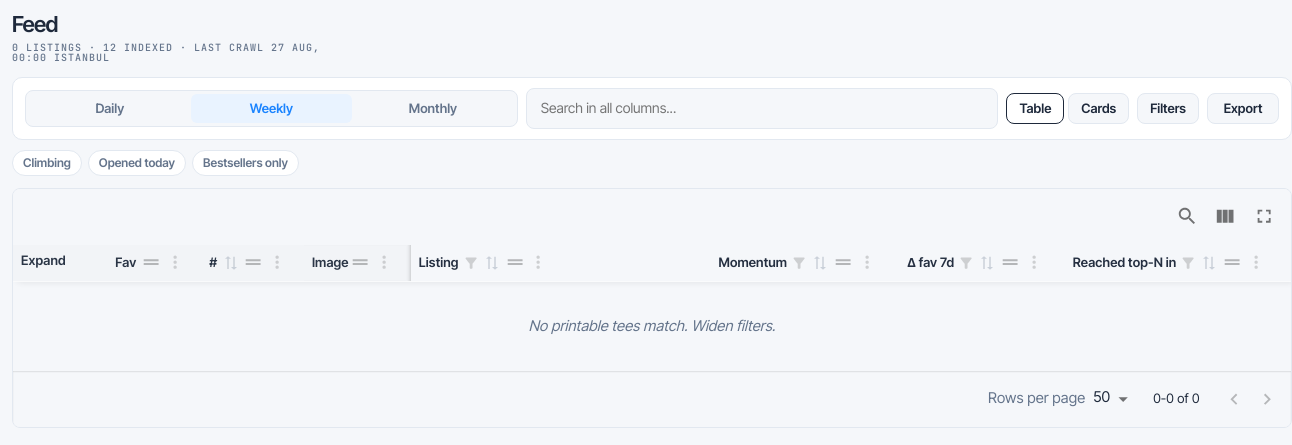
FeedPage › shows empty-state copy when the list is empty
Expected: the text "No printable tees match. Widen filters." is shown, [528,317,776,335]
Click the button "Export" at (1243, 108), box [1207,93,1279,124]
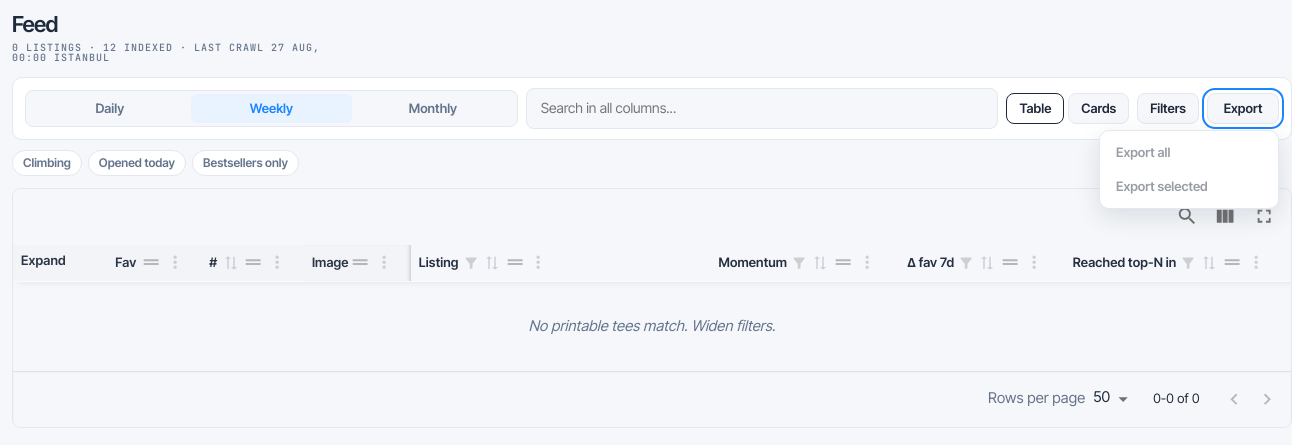
Expected: the menu item "Export all" is disabled, [1106,137,1272,168]
Expected: the menu item "Export selected" is disabled, [1106,170,1272,202]
